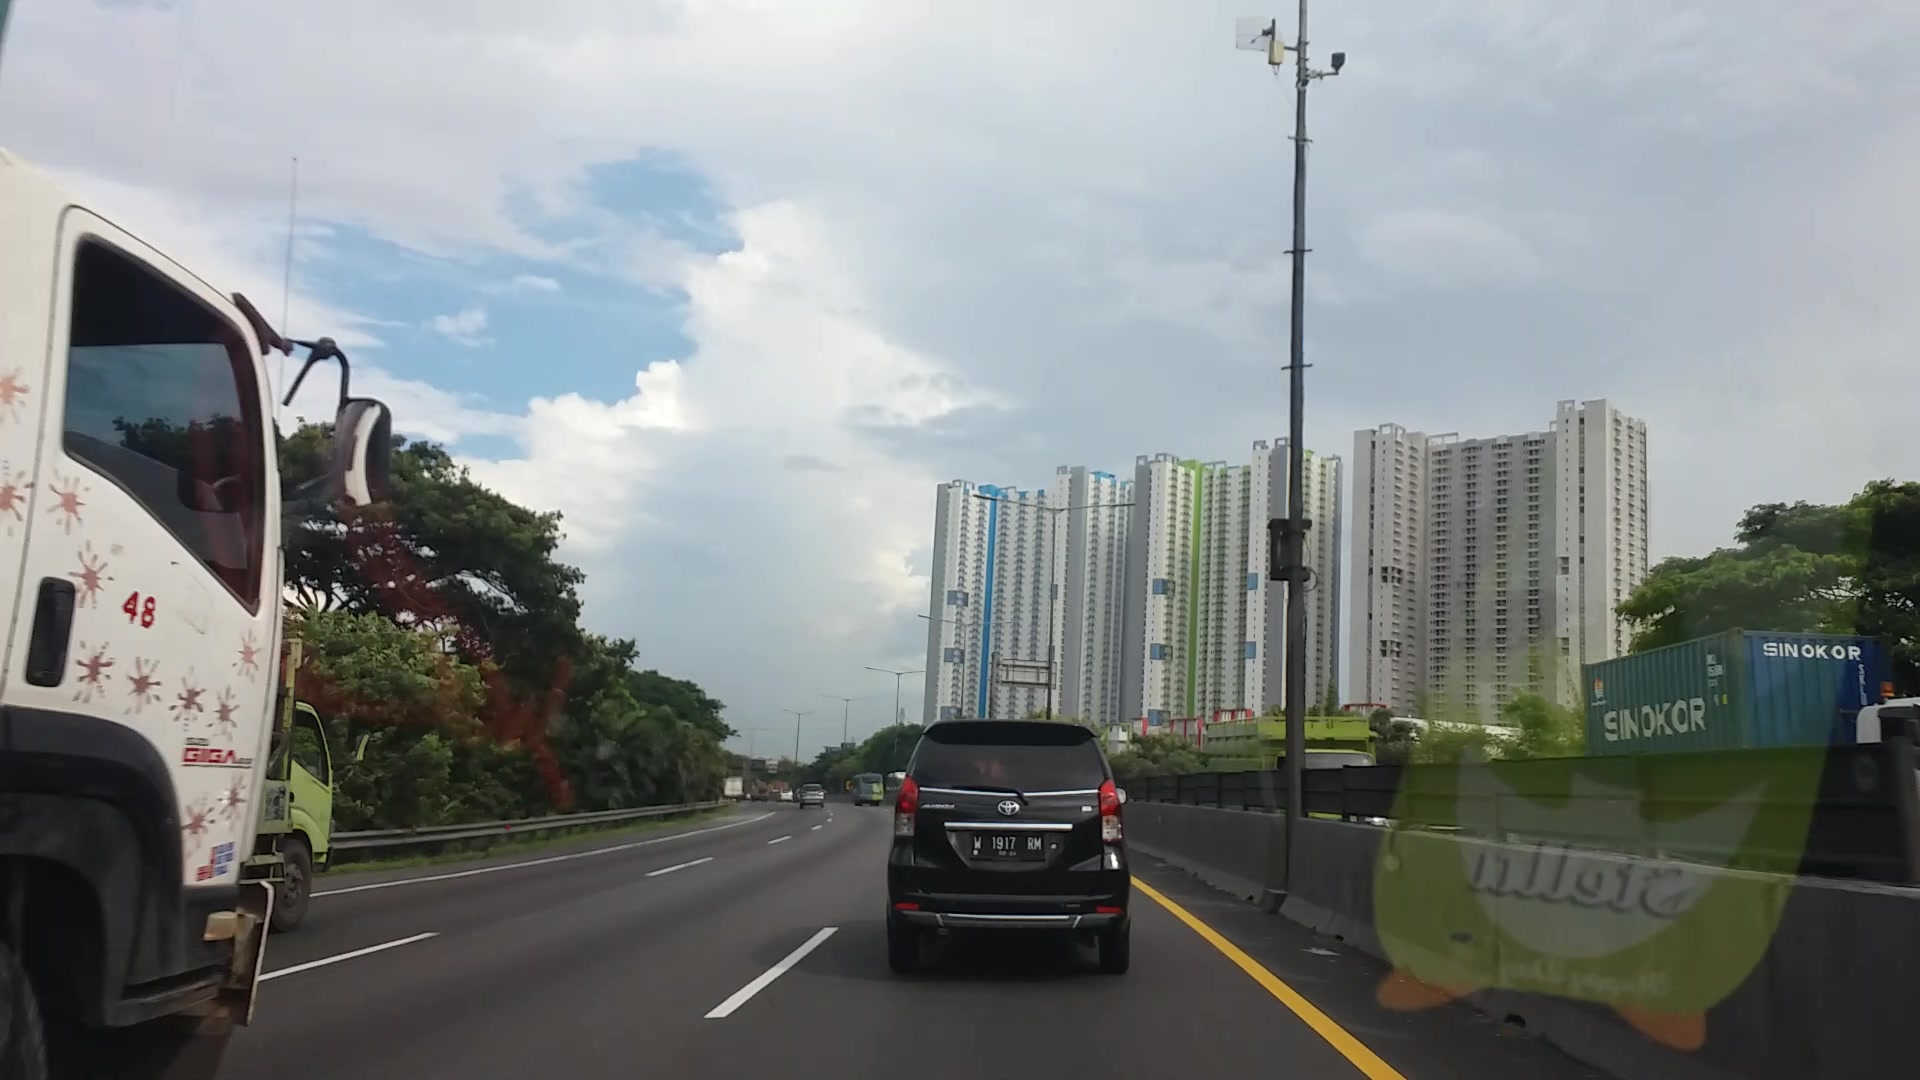plate_positive: (971, 833, 1044, 856)
